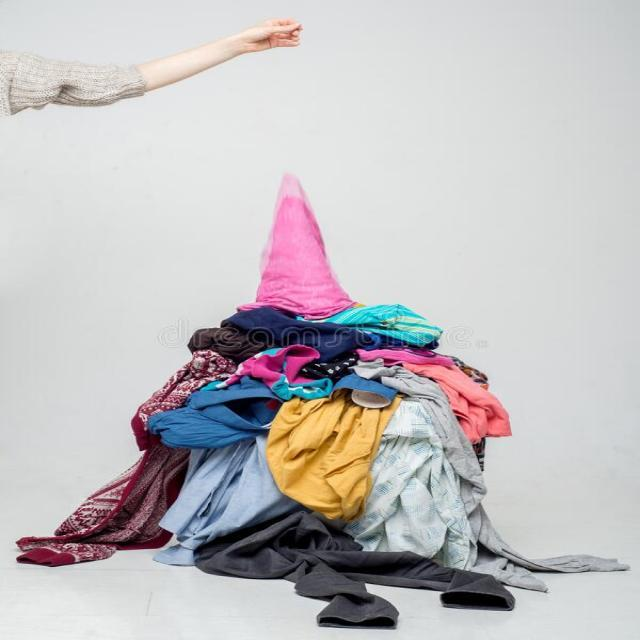clothes: (200, 272, 468, 611)
